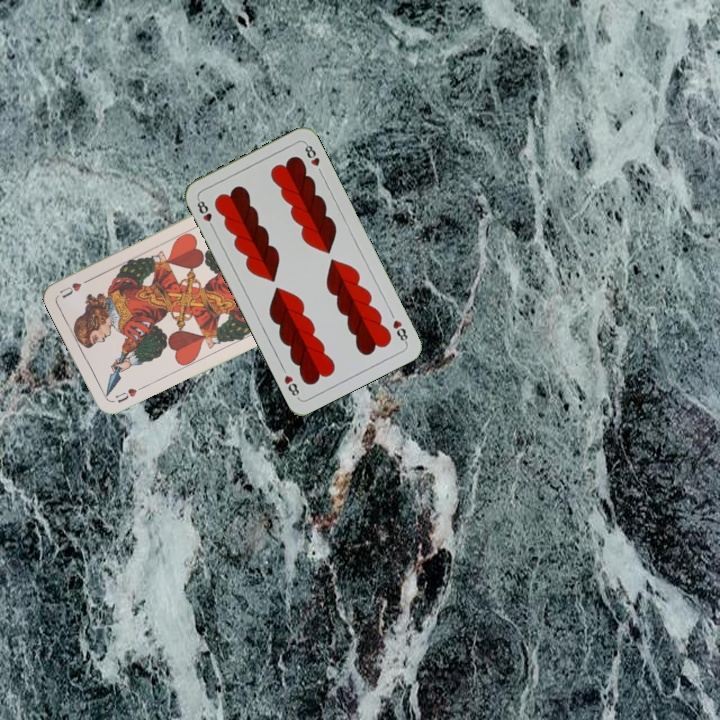H8: (193, 194, 217, 232), (389, 316, 410, 346)
HU: (112, 382, 147, 405)
